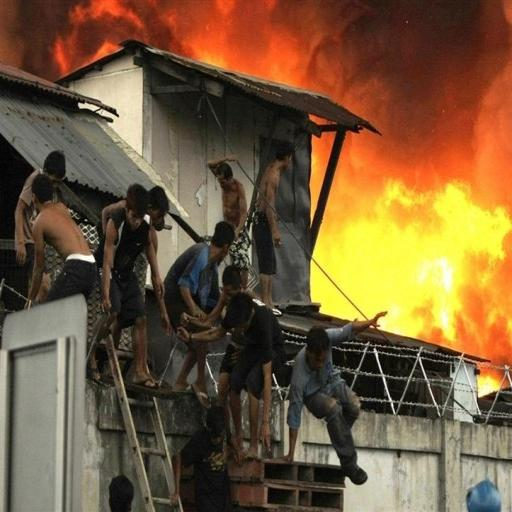fire: (13, 0, 511, 363), (315, 4, 511, 363), (315, 180, 511, 363), (315, 180, 511, 354), (25, 0, 201, 78), (188, 0, 303, 83), (54, 0, 145, 73), (70, 0, 145, 29), (478, 372, 509, 396), (54, 38, 72, 69), (92, 41, 118, 60), (54, 38, 69, 69), (202, 51, 227, 68), (479, 375, 496, 395)
smoke: (0, 0, 511, 361)
